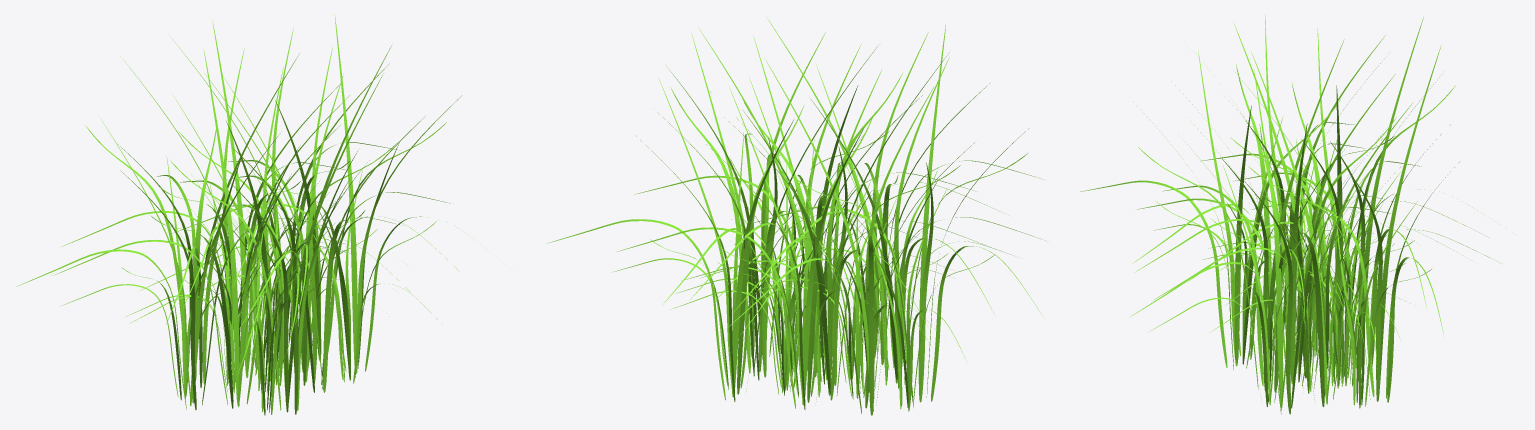
File: grass2.fbx
The picture shows the model from 3 angles, left to right: view 1: azimuth 30°, elevation 25°; view 2: azimuth 150°, elevation 25°; view 3: azimuth 270°, elevation 25°; orthographic projection. The views are drawn at different scales.
Parts seen in each view (by area): view 1: Grass_Pampas; view 2: Grass_Pampas; view 3: Grass_Pampas.
Part boxes in pixels (x1,y1,x2,y2): Grass_Pampas: (16, 14, 462, 415); Grass_Pampas: (546, 17, 1045, 415); Grass_Pampas: (1080, 14, 1489, 414).
Bounding box in the file's own units: 142 × 97.81 × 125.
